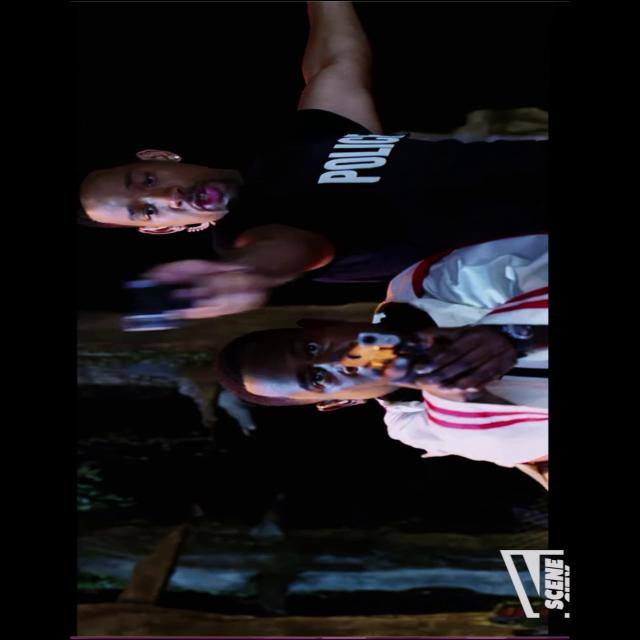weapons: (316, 321, 476, 377)
